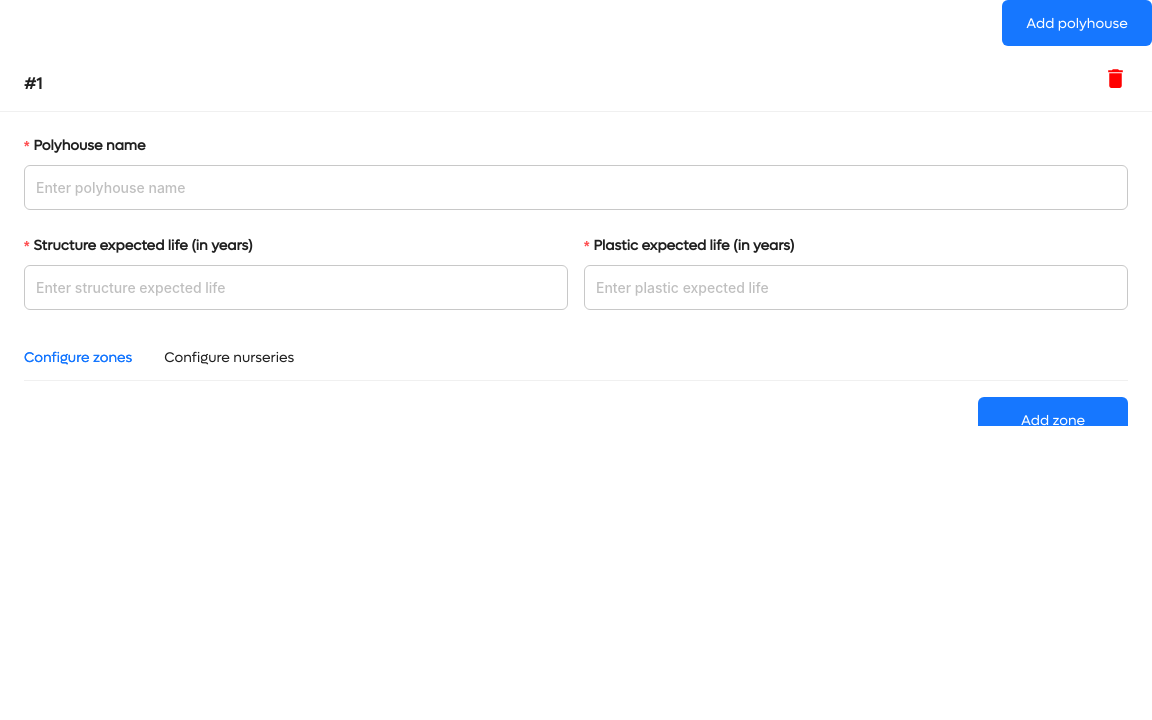
Test: AddZones Component › displays validation errors on empty fields
Click the button "Add zone".
click(1053, 420)  # box [978, 397, 1128, 443]
(page scrolled)
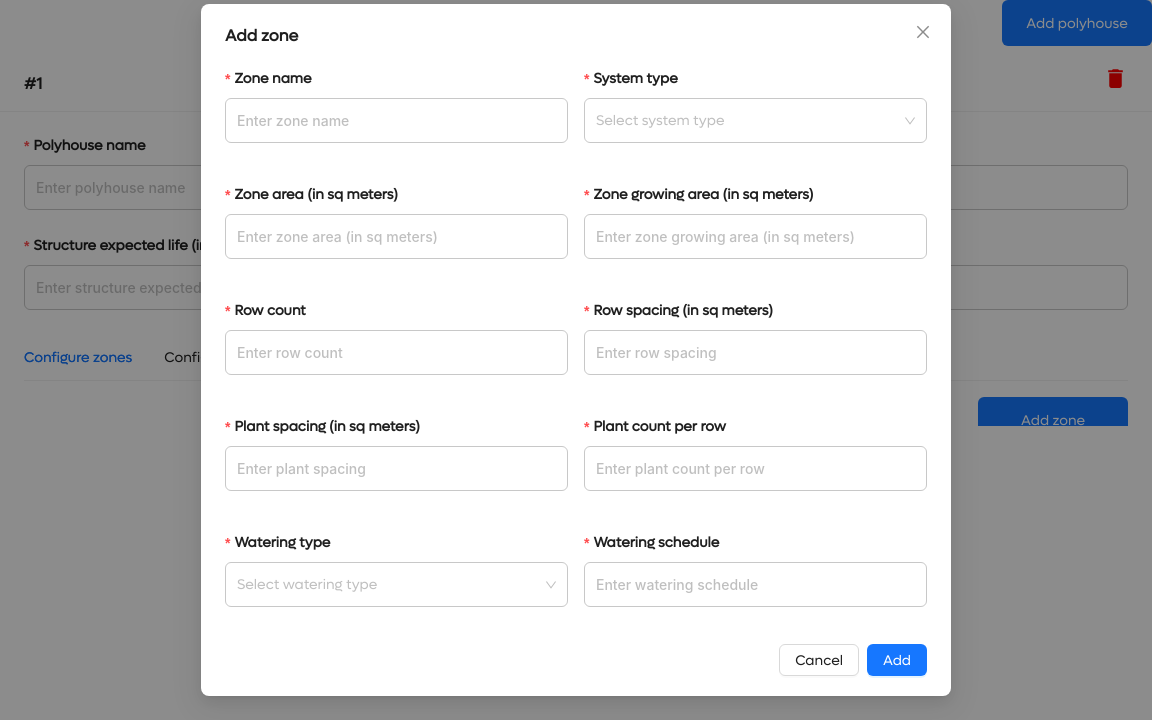
Click the button "Add".
click(897, 660)  # box [867, 644, 927, 676]
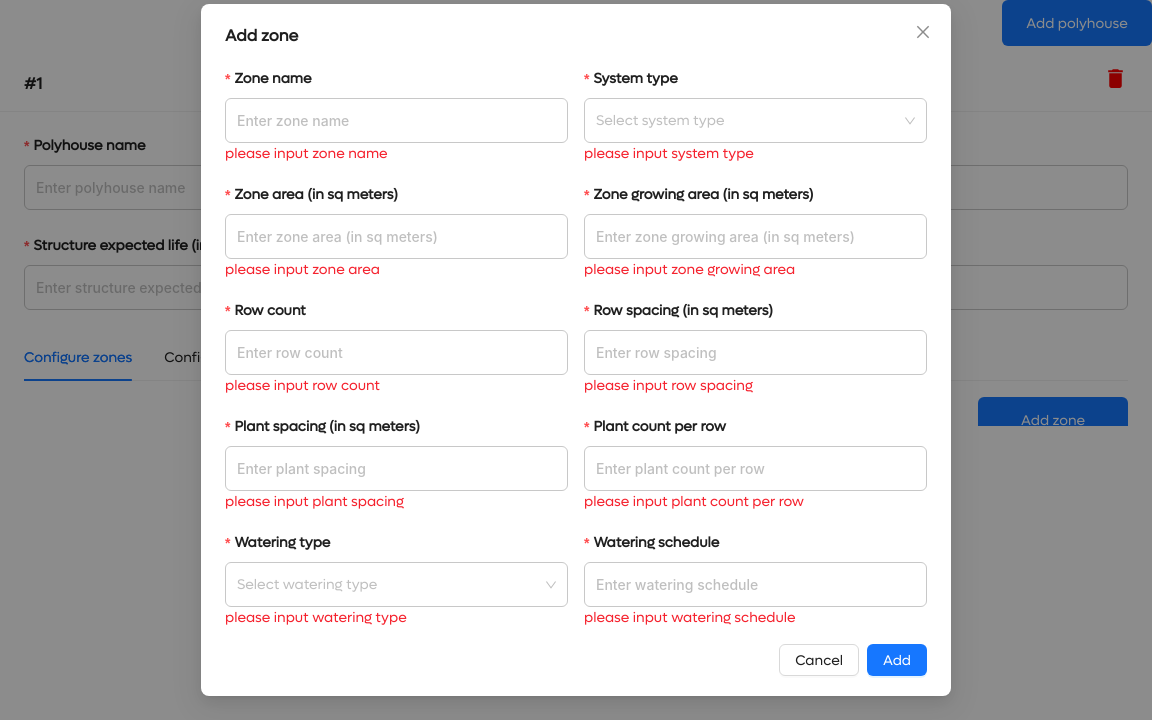
Expected: the text "please input zone name" is shown, [225, 144, 388, 163]
Expected: the text "please input system type" is shown, [584, 144, 754, 163]
Expected: the text "please input zone area" is shown, [225, 260, 380, 279]
